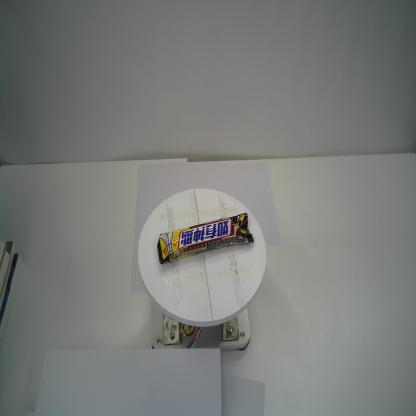Chocolate: (156, 211, 254, 265)
